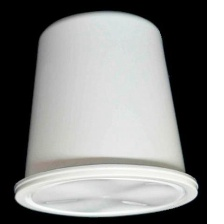plastic_box: (8, 5, 203, 222)
